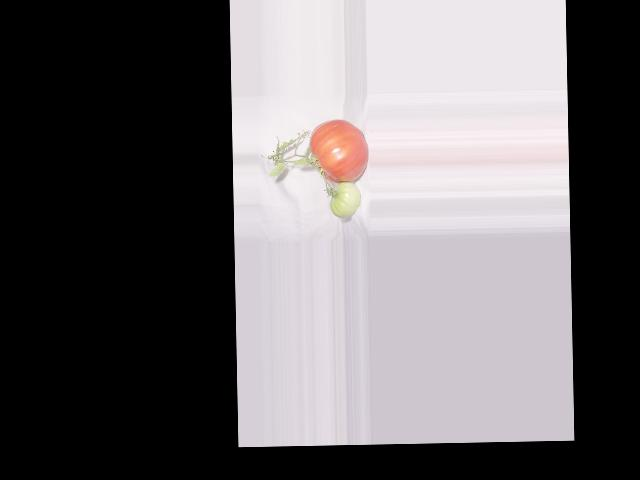tomato: (309, 119, 368, 183)
